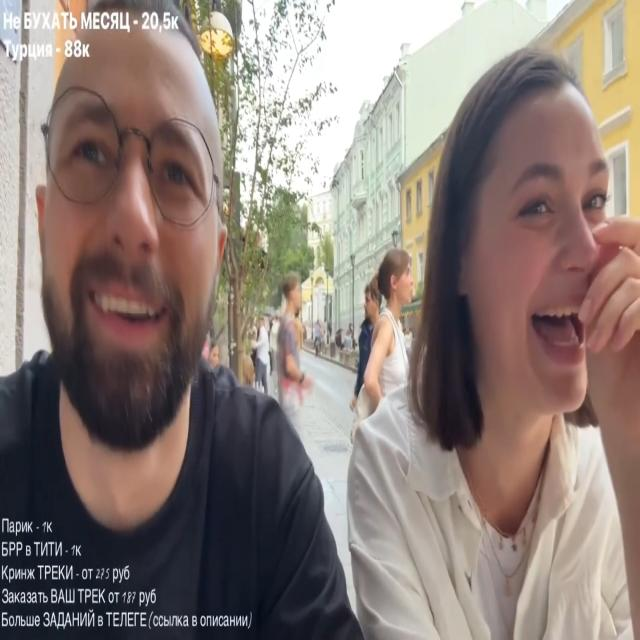Person: (0, 14, 350, 633), (345, 71, 640, 640), (352, 246, 419, 436), (272, 271, 310, 419)
